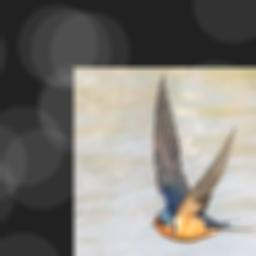Swallow: (149, 72, 251, 241)
